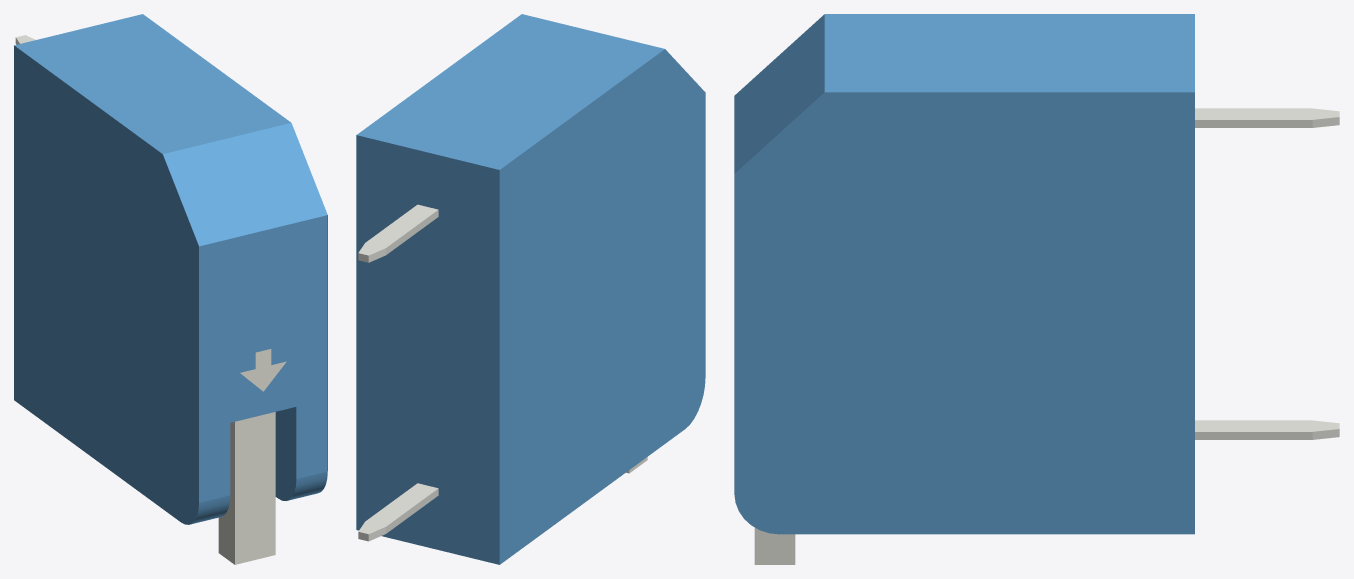
Rendered from SW_DIP_SPSTx01_Piano_10.8x4.1mm_W7.62mm_P2.54mm.glb.
3 renders of one model, left to right at view 1: azimuth 30°, elevation 25°; view 2: azimuth 150°, elevation 25°; view 3: azimuth 270°, elevation 25°, orthographic. The views are drawn at different scales.
Visible parts, largest first — view 1: Shape_IndexedFaceSet.008, Shape_IndexedFaceSet.001, Shape_IndexedFaceSet.005, Shape_IndexedFaceSet.003, Shape_IndexedFaceSet.025, Shape_IndexedFaceSet.007, Shape_IndexedFaceSet.026, Shape_IndexedFaceSet.012, Shape_IndexedFaceSet.002, Shape_IndexedFaceSet.010; view 2: Shape_IndexedFaceSet.008, Shape_IndexedFaceSet.006, Shape_IndexedFaceSet.005, Shape_IndexedFaceSet.019, Shape_IndexedFaceSet.016; view 3: Shape_IndexedFaceSet, Shape_IndexedFaceSet.005, Shape_IndexedFaceSet.003, Shape_IndexedFaceSet.016, Shape_IndexedFaceSet.019, Shape_IndexedFaceSet.023, Shape_IndexedFaceSet.015, Shape_IndexedFaceSet.018.
Boxes of the visible parts, box(x1,y1,x2,y2) form: Shape_IndexedFaceSet.008: box(14, 45, 198, 524); Shape_IndexedFaceSet.001: box(199, 215, 327, 502); Shape_IndexedFaceSet.005: box(14, 14, 290, 153); Shape_IndexedFaceSet.003: box(163, 123, 327, 246); Shape_IndexedFaceSet.025: box(235, 412, 275, 564); Shape_IndexedFaceSet.007: box(275, 407, 296, 500); Shape_IndexedFaceSet.026: box(218, 422, 234, 564); Shape_IndexedFaceSet.012: box(240, 349, 286, 391); Shape_IndexedFaceSet.002: box(287, 471, 327, 500); Shape_IndexedFaceSet.010: box(190, 495, 230, 524); Shape_IndexedFaceSet.008: box(499, 49, 705, 564); Shape_IndexedFaceSet.006: box(356, 135, 499, 564); Shape_IndexedFaceSet.005: box(357, 14, 664, 169); Shape_IndexedFaceSet.019: box(358, 204, 437, 255); Shape_IndexedFaceSet.016: box(358, 483, 437, 534); Shape_IndexedFaceSet: box(734, 92, 1194, 534); Shape_IndexedFaceSet.005: box(824, 14, 1194, 92); Shape_IndexedFaceSet.003: box(734, 14, 824, 173); Shape_IndexedFaceSet.016: box(1195, 420, 1339, 431); Shape_IndexedFaceSet.019: box(1195, 108, 1339, 119); Shape_IndexedFaceSet.023: box(754, 527, 795, 564); Shape_IndexedFaceSet.015: box(1195, 432, 1312, 439); Shape_IndexedFaceSet.018: box(1195, 120, 1312, 127).
Bounding box in the file's own units: 1.61 × 4.8 × 5.28.
